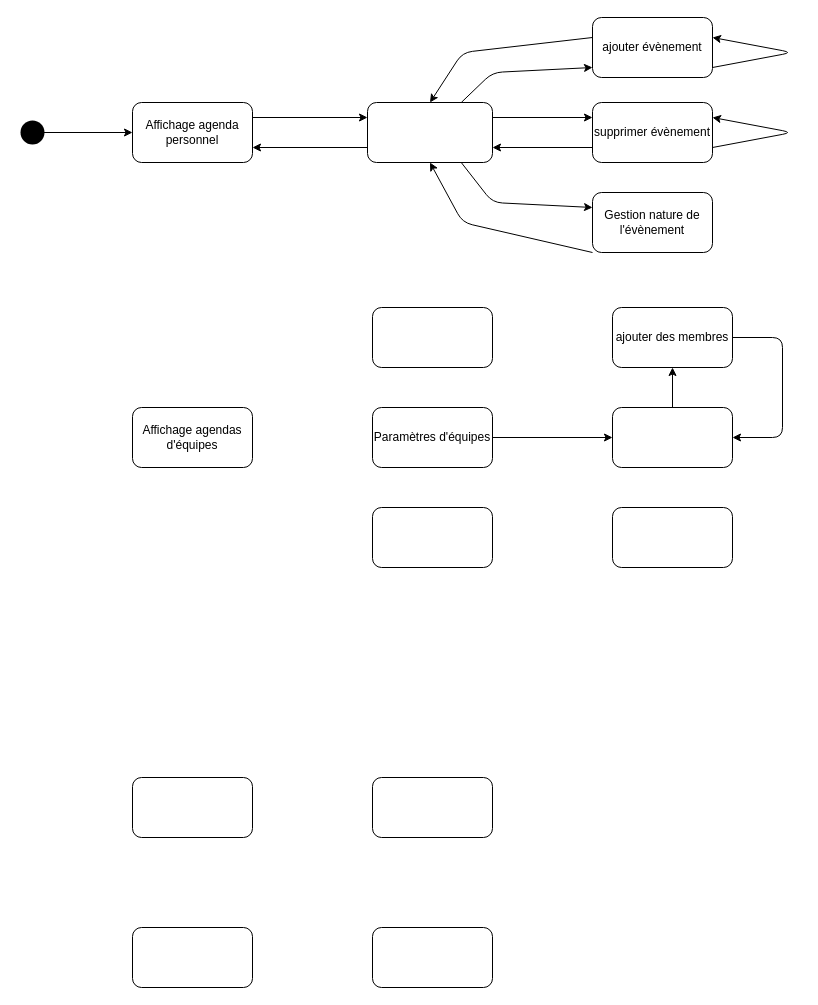
This 818x1005 diagram has some shape labels left out. The centre of each missing label's shape, as x and y in pixels:
"Créer équipe" belongs at (672,437).
"Gestion agenda personnel" belongs at (429,132).
